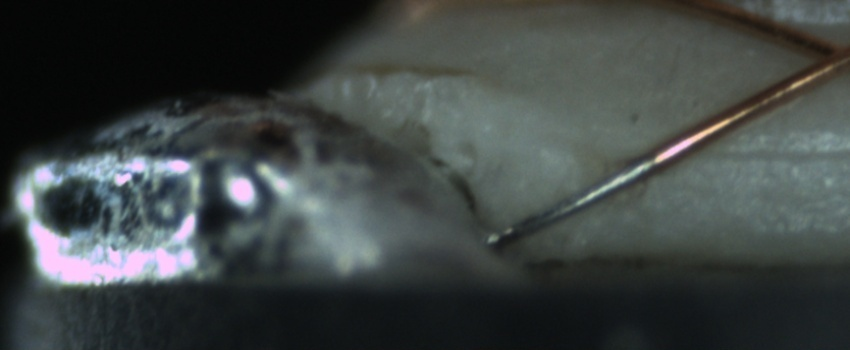CL: (794, 27, 849, 86)
DL: (696, 124, 849, 188)
TS: (483, 156, 660, 249)
